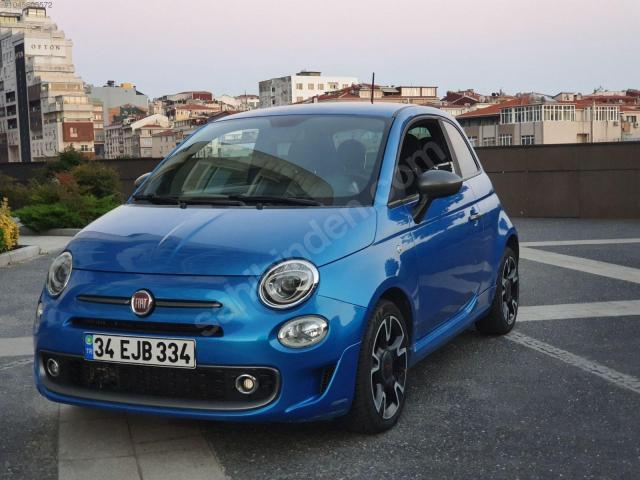plaka: (85, 334, 196, 368)
